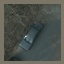car: (18, 23, 43, 51)
